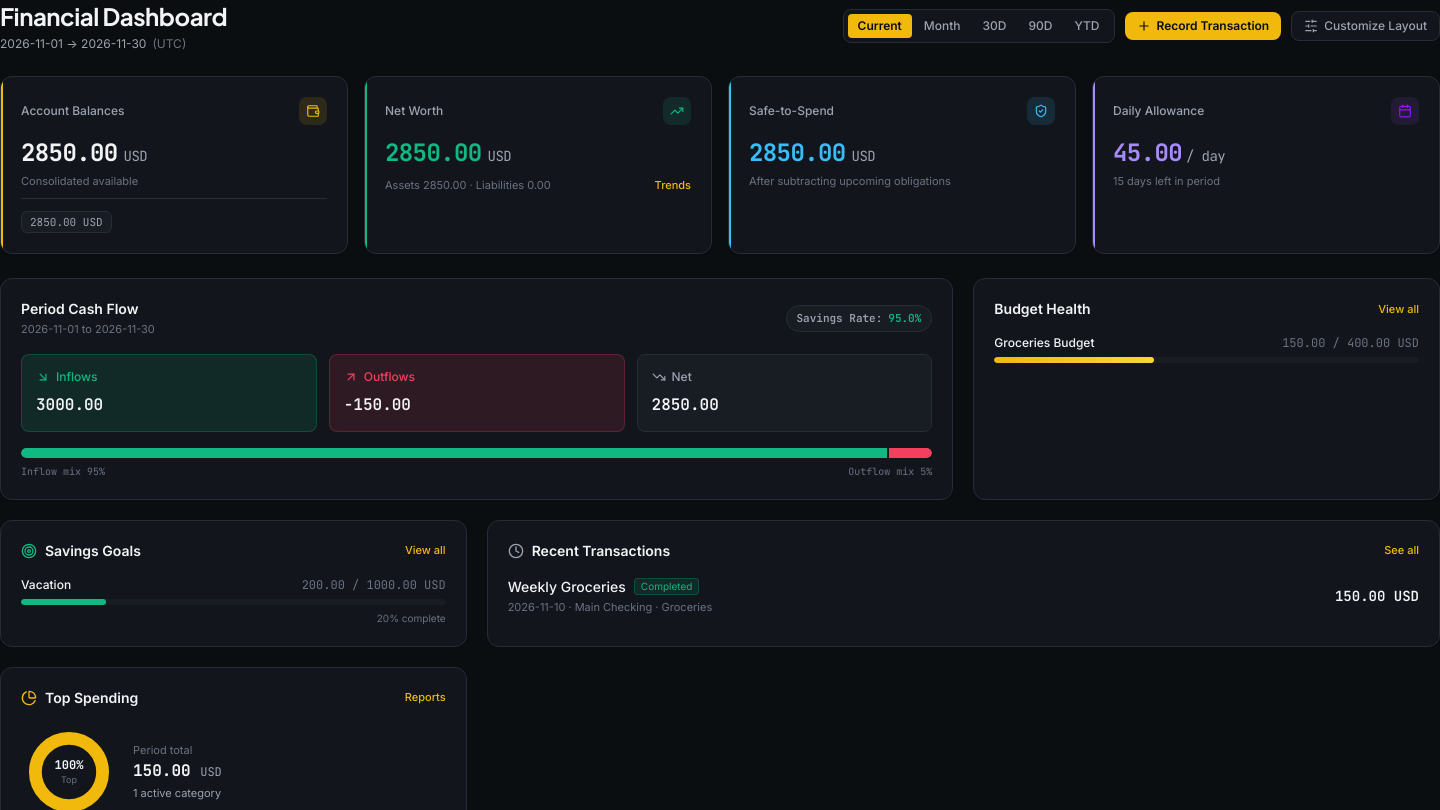
Test: DashboardPage › opens customize layout modal when clicking customize button
The image size is (1440, 810).
expect the heading "Financial Dashboard" is shown: met, box [0, 0, 227, 32]
What coordinates should you click on to do the following:
click the button "Customize Layout"
I would click on:
 (1366, 26)
Its box is [1291, 11, 1439, 41].
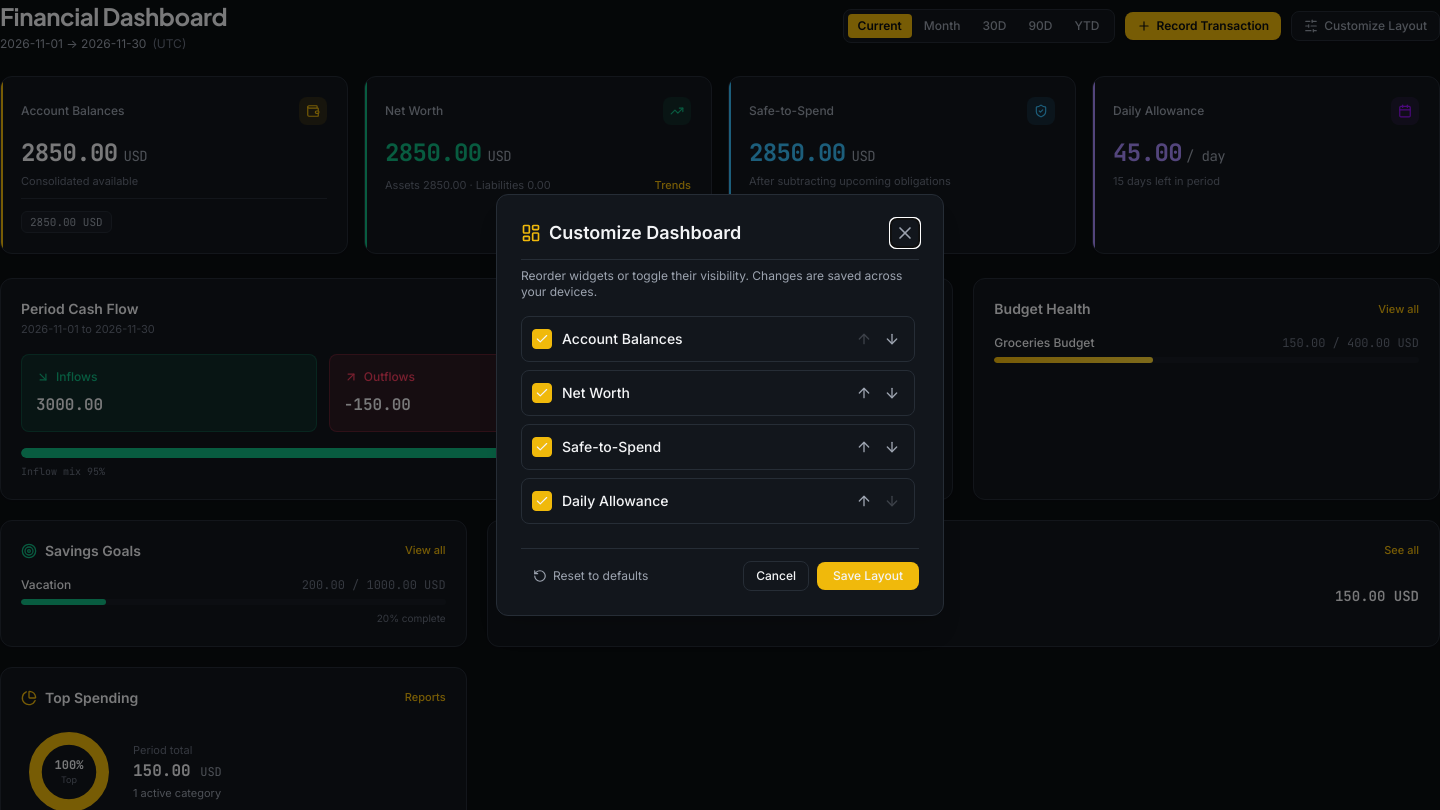
expect the heading "Customize Dashboard" is shown: met, box [549, 219, 741, 247]
expect the button "Reset to defaults" is shown: met, box [521, 562, 660, 590]
expect the button "Save Layout" is shown: met, box [817, 562, 919, 590]
